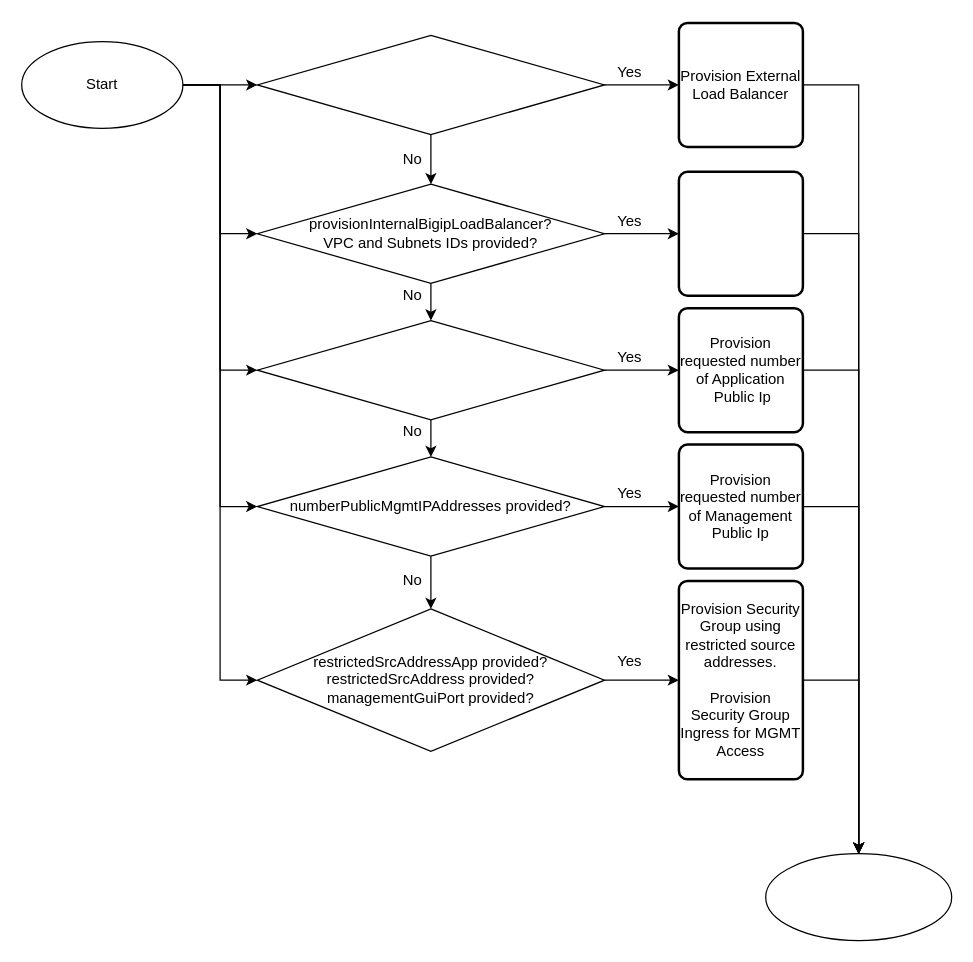
The diagram is 973 pixels wide and 962 high, and some of its shapes have lost their labels. Here are the shapes that lost their labels. From the top down, the centre of each, then its label:
At point 430,84: "provisionExternalBigipLoadBalancer? VPC and Subnets IDs provided?".
At point 740,233: "Provision Internal Load Balancer".
At point 430,369: "numberPublicAppIPAddresses provided?".
At point 858,896: "End".
